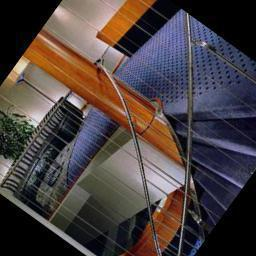Escaleras: (98, 53, 256, 256)
